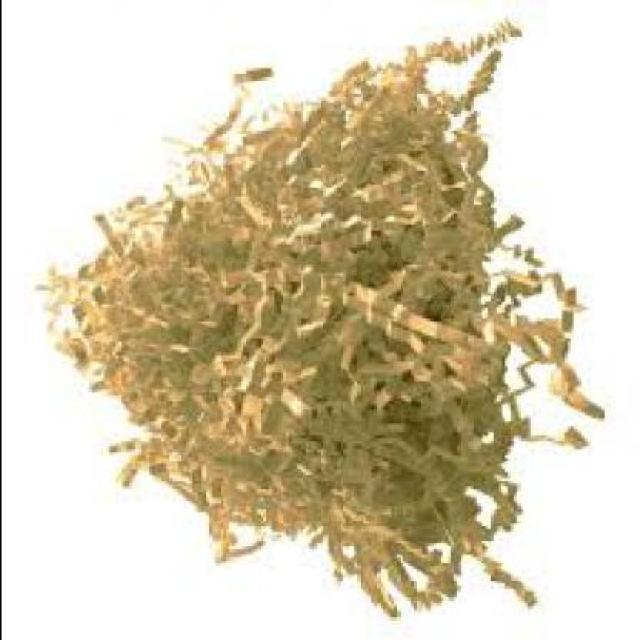PAPER: (31, 17, 603, 617)
